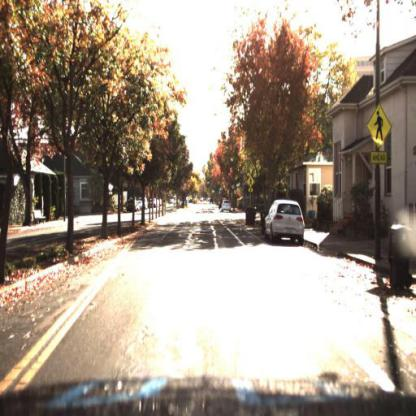car: (262, 197, 308, 245), (220, 199, 235, 213)
